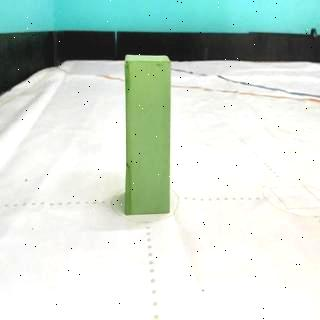greenbox: (124, 54, 174, 214)
